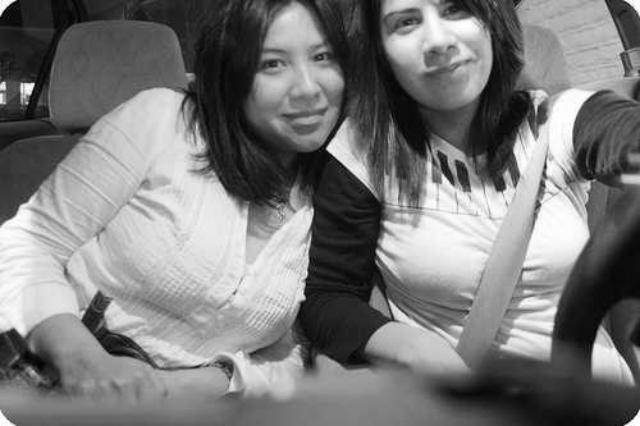SafeDriving: (384, 9, 430, 40), (436, 0, 480, 25), (256, 50, 293, 76), (305, 42, 341, 68)
Seatbelt: (450, 87, 568, 371)
